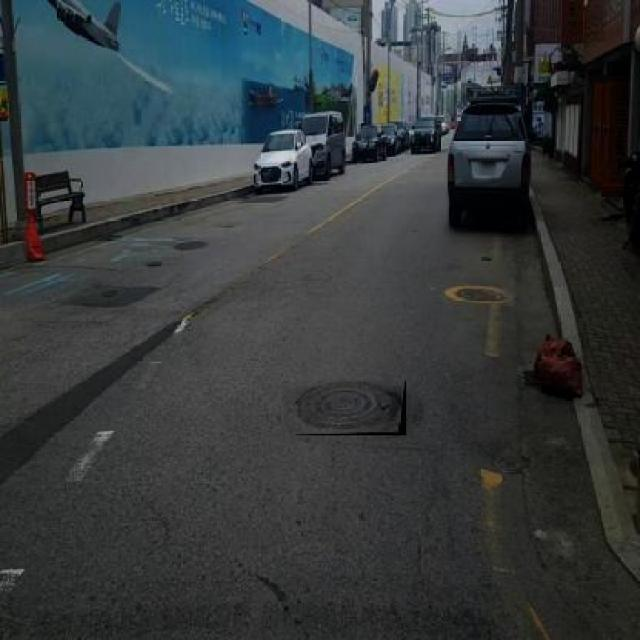Manhole: (294, 380, 408, 436), (56, 284, 154, 308), (445, 284, 516, 306), (173, 240, 210, 250), (144, 260, 164, 270), (152, 278, 164, 284)
Pothole: (531, 526, 591, 577), (492, 452, 536, 478), (476, 252, 497, 262)
